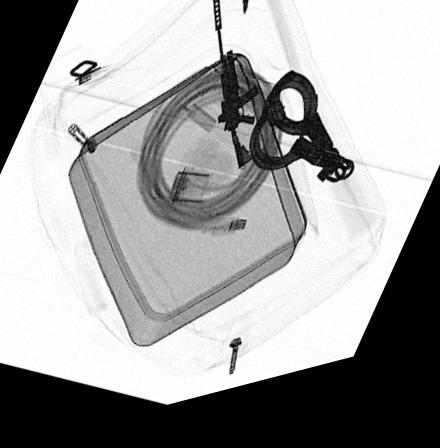Bullet: (241, 0, 250, 26)
Gun: (211, 1, 260, 181)
HandCuffs: (245, 81, 355, 199)
